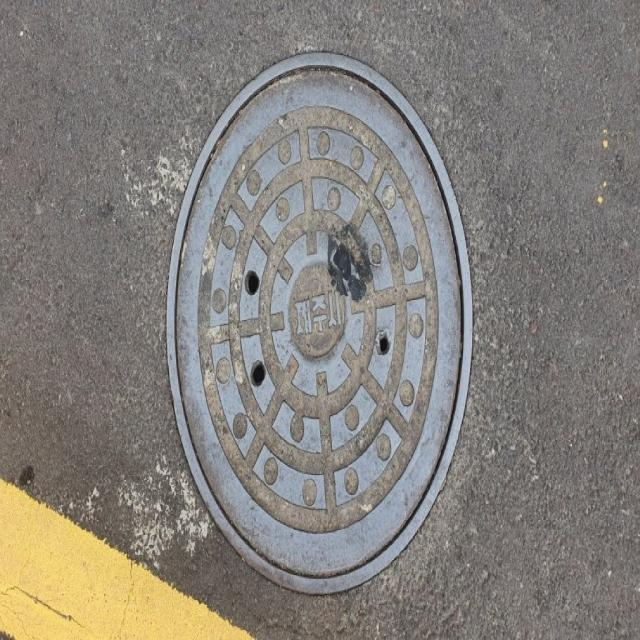manhole: (168, 52, 471, 593)
